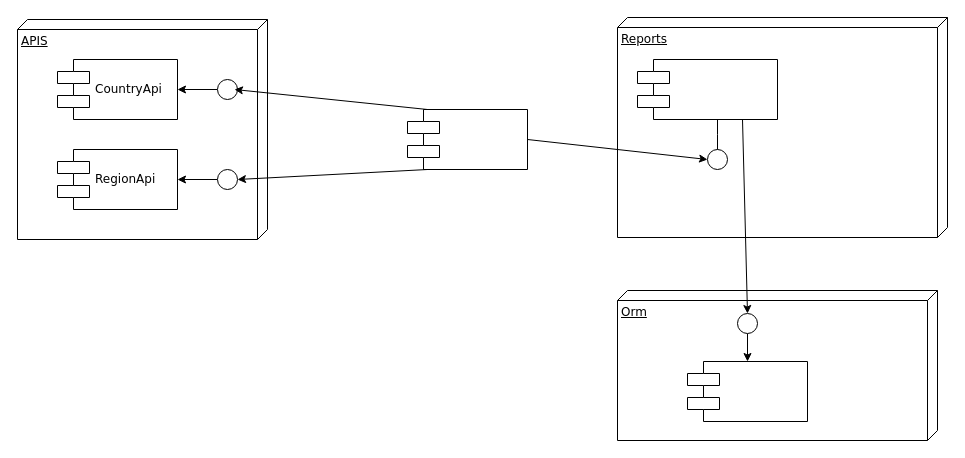
Image size: 965x458. Some labels were removed from this diagram. Here are the shapes that lost their labels. From the top down, the centre of each, then its label:
At pixel 707 89: "CountryReport".
At pixel 467 139: "Main".
At pixel 747 391: "Sqlite".
